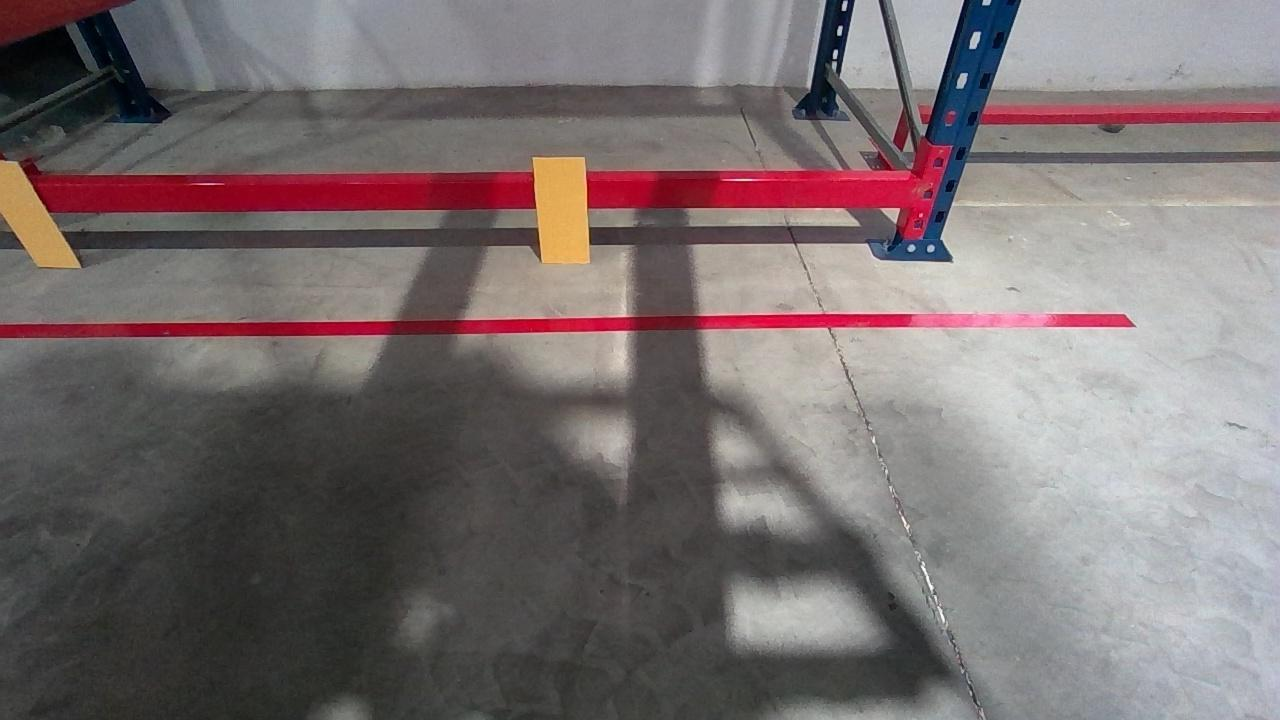h_rack: (3, 178, 918, 210)
orange_strip: (0, 159, 80, 267), (531, 155, 587, 262)
red_line: (0, 308, 1135, 339)
